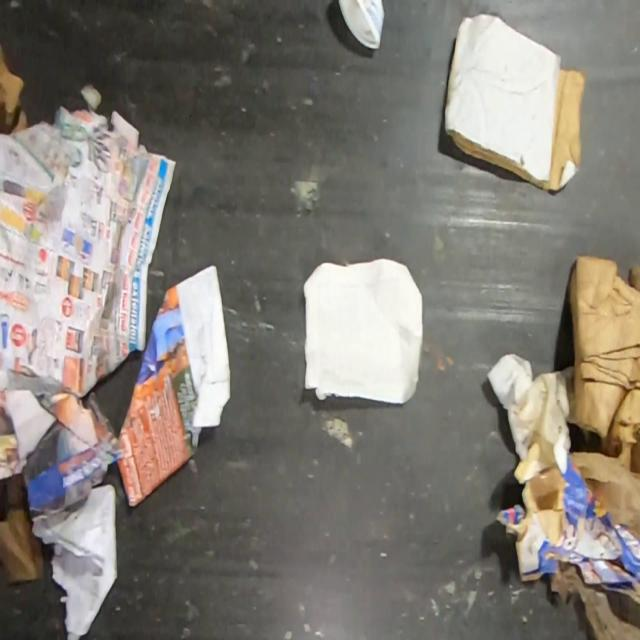cardboard: (444, 12, 586, 191), (495, 434, 640, 604), (567, 255, 640, 475), (0, 473, 44, 585), (0, 42, 28, 135)
rigid_plastic: (337, 0, 385, 49)
